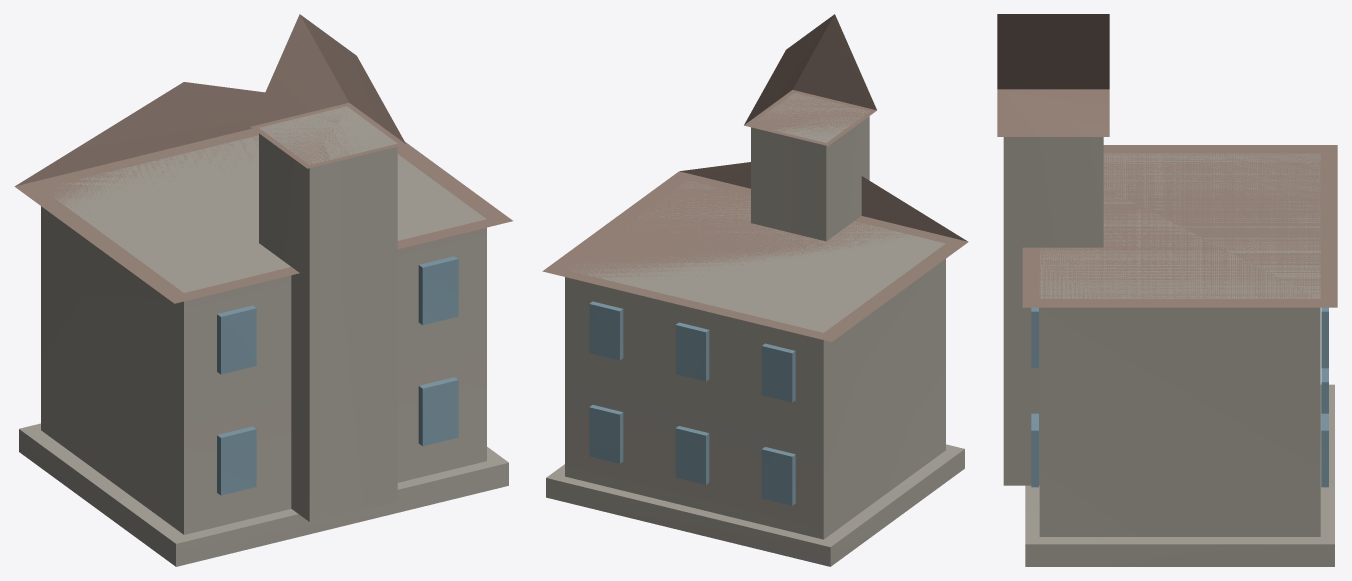
The model's file is church-00.glb.
The picture shows the model from 3 angles, left to right: view 1: azimuth 30°, elevation 25°; view 2: azimuth 150°, elevation 25°; view 3: azimuth 270°, elevation 25°; orthographic projection. The views are drawn at different scales.
Parts seen in each view (by area): view 1: world; view 2: world; view 3: world.
Part boxes in pixels (<box>): world: <box>14,14,512,566</box>; world: <box>542,14,968,566</box>; world: <box>997,14,1337,566</box>.
Bounding box in the file's own units: 1.23 × 1.67 × 1.09.
